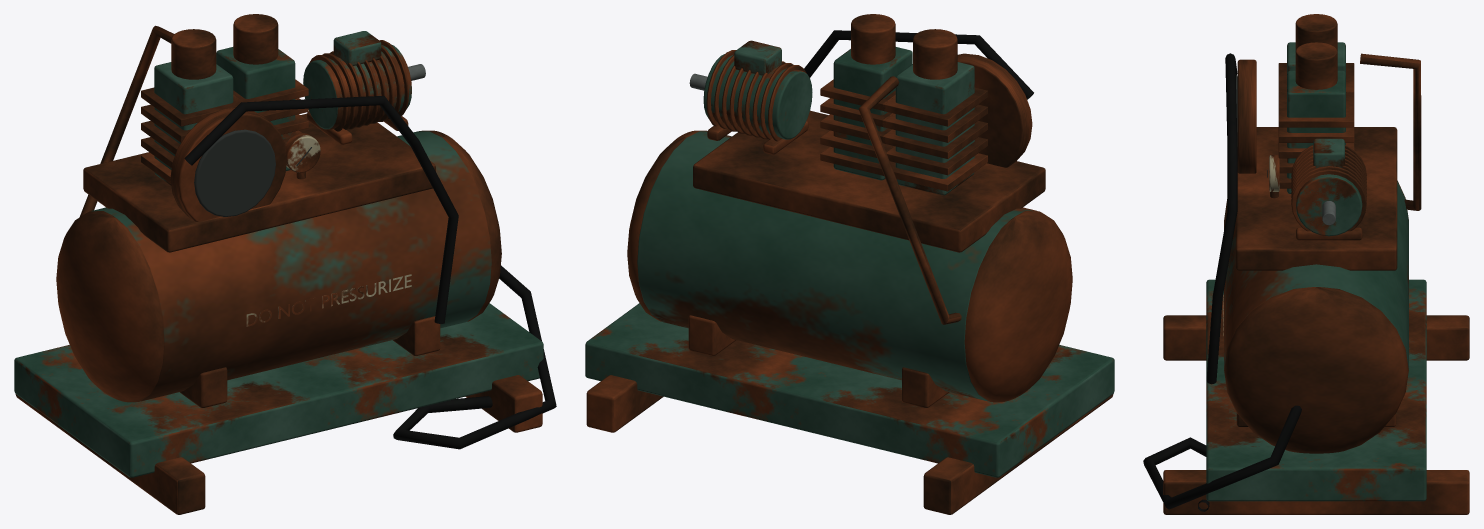
Rendered from air_compressor.glb.
3 renders of one model, left to right at view 1: azimuth 30°, elevation 25°; view 2: azimuth 150°, elevation 25°; view 3: azimuth 270°, elevation 25°, orthographic. The views are drawn at different scales.
Parts seen in each view (by area): view 1: Pressure vessel, Skid cross beam, Pump deck, Dished tank end, Pulley inset, Broken drive belt, Discarded air hose, Exposed drive pulley, Motor casing, Skid runner, Compressor cylinder block, Compressor cylinder block.001 (+13 smaller); view 2: Pressure vessel, Skid cross beam, Pump deck, Dished tank end, Exposed drive pulley, Compressor cylinder block, Motor casing, Compressor cylinder block.001, Skid runner, Pressure line, Skid runner.001, Pump air intake (+16 smaller); view 3: Dished tank end.001, Skid cross beam, Pump deck, Pressure vessel, Skid runner.001, Skid runner, Broken drive belt, Discarded air hose, Motor casing, Compressor cylinder block.001, Exposed drive pulley, Pressure line (+10 smaller).
Boxes of the visible parts, x1=… form: Pressure vessel: x1=91, y1=131, x2=491, y2=401; Skid cross beam: x1=14, y1=303, x2=543, y2=477; Pump deck: x1=83, y1=113, x2=435, y2=252; Dished tank end: x1=56, y1=211, x2=164, y2=402; Pulley inset: x1=194, y1=129, x2=275, y2=216; Broken drive belt: x1=184, y1=96, x2=458, y2=323; Discarded air hose: x1=393, y1=265, x2=556, y2=449; Exposed drive pulley: x1=170, y1=108, x2=286, y2=221; Motor casing: x1=303, y1=44, x2=411, y2=129; Skid runner: x1=15, y1=394, x2=205, y2=514; Compressor cylinder block: x1=154, y1=62, x2=233, y2=185; Compressor cylinder block.001: x1=216, y1=47, x2=295, y2=170; Pressure vessel: x1=637, y1=131, x2=1037, y2=401; Skid cross beam: x1=585, y1=303, x2=1114, y2=477; Pump deck: x1=693, y1=110, x2=1045, y2=252; Dished tank end: x1=964, y1=211, x2=1072, y2=402; Exposed drive pulley: x1=957, y1=53, x2=1032, y2=167; Compressor cylinder block: x1=895, y1=62, x2=974, y2=195; Motor casing: x1=703, y1=54, x2=812, y2=139; Compressor cylinder block.001: x1=833, y1=47, x2=912, y2=180; Skid runner: x1=923, y1=394, x2=1113, y2=514; Pressure line: x1=858, y1=76, x2=961, y2=324; Skid runner.001: x1=586, y1=375, x2=663, y2=432; Pump air intake: x1=913, y1=29, x2=957, y2=79; Dished tank end.001: x1=1224, y1=287, x2=1408, y2=453; Skid cross beam: x1=1206, y1=279, x2=1426, y2=501; Pump deck: x1=1235, y1=127, x2=1397, y2=270; Pressure vessel: x1=1224, y1=181, x2=1408, y2=369; Skid runner.001: x1=1163, y1=470, x2=1469, y2=514; Skid runner: x1=1163, y1=315, x2=1469, y2=360; Broken drive belt: x1=1206, y1=53, x2=1237, y2=384; Discarded air hose: x1=1143, y1=405, x2=1301, y2=511; Motor casing: x1=1296, y1=174, x2=1362, y2=236; Compressor cylinder block.001: x1=1287, y1=70, x2=1345, y2=193; Exposed drive pulley: x1=1237, y1=59, x2=1256, y2=173; Pressure line: x1=1360, y1=53, x2=1421, y2=210.
Size of the model in its own units: 2.26 by 1.95 by 1.56.
Materials: 6 (5 with a texture image).
